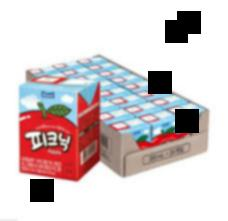picnic_apple: (19, 87, 92, 180)
